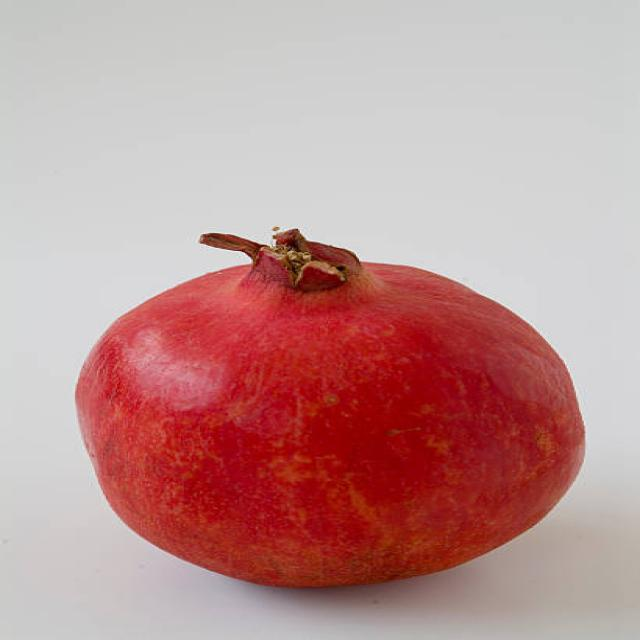Ripe: (70, 225, 591, 594)
